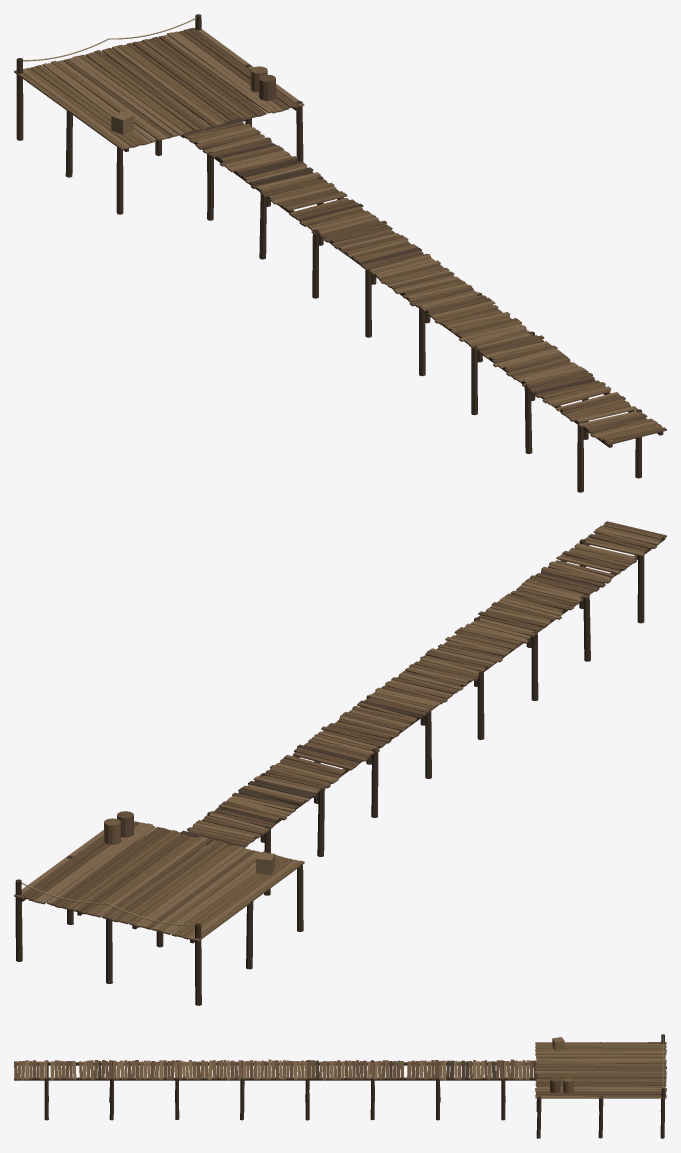
The model's file is pier.glb.
3 renders of one model, top to bottom at view 1: azimuth 30°, elevation 25°; view 2: azimuth 150°, elevation 25°; view 3: azimuth 270°, elevation 25°, orthographic. The views are drawn at different scales.
Parts seen in each view (by area): view 1: Pier_plank_a, Pier_plank_b, Pier_plank_c, Pier_post, Pier_plank_wet; view 2: Pier_plank_a, Pier_plank_b, Pier_plank_c, Pier_post, Pier_plank_wet; view 3: Pier_plank_a, Pier_plank_b, Pier_plank_c, Pier_post, Pier_plank_wet.
Part boxes in pixels (left/top/right/bottom): Pier_plank_a: left=14, top=39, right=662, bottom=441; Pier_plank_b: left=63, top=27, right=666, bottom=445; Pier_plank_c: left=23, top=28, right=657, bottom=438; Pier_post: left=16, top=14, right=663, bottom=492; Pier_plank_wet: left=182, top=117, right=595, bottom=394; Pier_plank_a: left=65, top=523, right=662, bottom=941; Pier_plank_b: left=19, top=521, right=666, bottom=929; Pier_plank_c: left=14, top=527, right=659, bottom=940; Pier_post: left=15, top=538, right=665, bottom=1005; Pier_plank_wet: left=180, top=572, right=599, bottom=847; Pier_plank_a: left=17, top=1042, right=666, bottom=1093; Pier_plank_b: left=14, top=1056, right=666, bottom=1096; Pier_plank_c: left=25, top=1037, right=666, bottom=1098; Pier_post: left=14, top=1034, right=666, bottom=1138; Pier_plank_wet: left=98, top=1060, right=537, bottom=1080.
Size of what is drawn, in the model's own units: 8.1 by 3.58 by 40.05.
